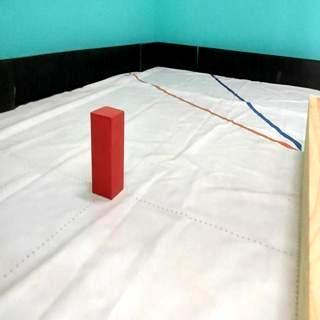redbox: (90, 106, 124, 200)
